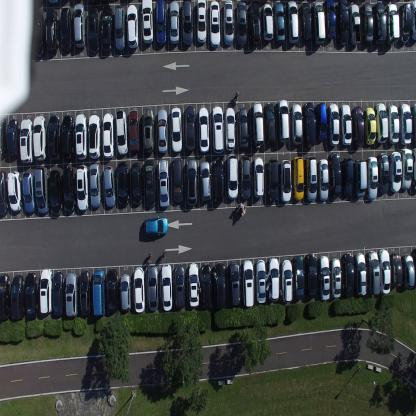car: (10, 274, 25, 320), (328, 151, 342, 199), (74, 112, 88, 160), (48, 168, 62, 216), (209, 0, 222, 51), (62, 165, 76, 212), (157, 158, 170, 208), (61, 114, 75, 160), (78, 270, 92, 316), (39, 268, 53, 314), (35, 165, 48, 214), (160, 263, 173, 312), (100, 4, 113, 53), (276, 99, 290, 144), (47, 115, 61, 160), (7, 170, 22, 212), (366, 250, 380, 295), (247, 1, 261, 46), (312, 0, 326, 45), (373, 0, 387, 45), (170, 106, 183, 154), (20, 117, 33, 165), (25, 272, 38, 320), (33, 114, 46, 161), (342, 252, 355, 299), (44, 8, 58, 51), (251, 102, 264, 148), (267, 256, 280, 302), (286, 0, 299, 46), (336, 0, 349, 46), (374, 102, 388, 144), (212, 105, 224, 154), (144, 158, 156, 207), (115, 110, 128, 155), (116, 161, 129, 206), (228, 262, 241, 307), (60, 7, 73, 52), (73, 3, 86, 48), (186, 158, 198, 206), (198, 106, 210, 154), (102, 111, 114, 159), (76, 164, 88, 212), (242, 259, 254, 307), (200, 263, 212, 311), (133, 266, 145, 314), (106, 266, 118, 314), (93, 269, 105, 317), (88, 5, 100, 53), (279, 158, 292, 202), (290, 102, 303, 146), (305, 253, 318, 297), (195, 0, 208, 44), (172, 156, 184, 203), (212, 158, 224, 205), (292, 155, 304, 202), (88, 113, 100, 160), (147, 264, 159, 311), (155, 0, 167, 47), (222, 0, 234, 47), (235, 0, 247, 47), (353, 158, 367, 198), (399, 102, 412, 145), (22, 171, 35, 214), (226, 154, 238, 200), (266, 158, 278, 204), (305, 156, 317, 202), (328, 101, 340, 147), (378, 248, 390, 294), (318, 255, 330, 301), (292, 254, 304, 300), (214, 262, 226, 308), (66, 272, 78, 318), (52, 270, 64, 316), (181, 0, 193, 46), (0, 272, 11, 322), (199, 160, 212, 202), (103, 165, 116, 207), (239, 155, 251, 200), (224, 106, 236, 151), (128, 108, 140, 153), (89, 164, 101, 209), (174, 264, 186, 309), (33, 12, 45, 57), (141, 0, 153, 45), (349, 3, 361, 48), (6, 118, 20, 156), (317, 158, 329, 202), (340, 102, 352, 146), (304, 101, 315, 149), (264, 102, 276, 146), (387, 2, 399, 46), (143, 216, 168, 237), (119, 272, 132, 312), (237, 107, 249, 150), (355, 252, 367, 295), (399, 2, 411, 45), (143, 108, 154, 154), (341, 156, 353, 198), (130, 162, 142, 204), (401, 253, 415, 289), (157, 108, 168, 153), (255, 259, 266, 304), (188, 263, 199, 308), (114, 6, 125, 51), (127, 3, 138, 48), (362, 2, 373, 47), (389, 151, 401, 192), (352, 106, 364, 147), (299, 0, 311, 41), (367, 156, 378, 200), (281, 259, 292, 303), (387, 104, 399, 144), (364, 106, 376, 146), (262, 2, 274, 42), (253, 156, 264, 199), (401, 147, 412, 190), (274, 1, 285, 44), (185, 104, 195, 151), (378, 152, 389, 194), (330, 257, 341, 299), (169, 0, 179, 46), (326, 0, 337, 41), (390, 252, 402, 288), (316, 102, 327, 141), (0, 170, 8, 216), (0, 115, 7, 160), (410, 103, 416, 144), (412, 149, 416, 192), (411, 0, 415, 41), (46, 0, 59, 4)
